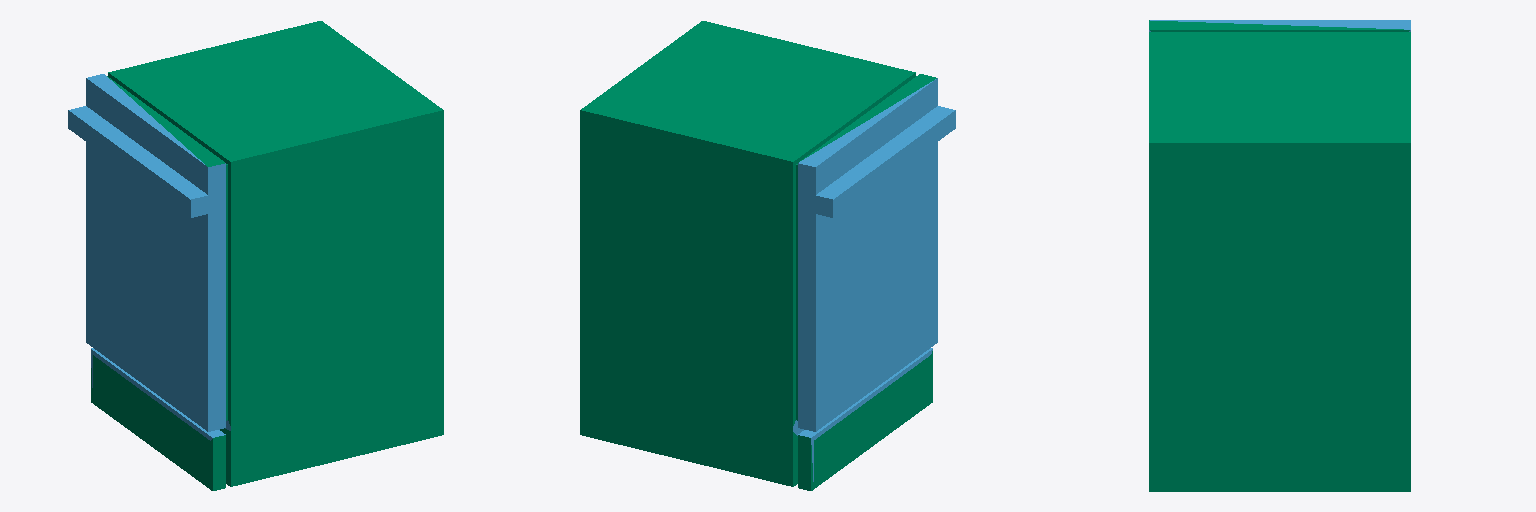
robot.urdf — partnet_7d4a04196d3b8eba7984fb9ec7e40829:
<?xml version="1.0" ?>
<robot name="partnet_7d4a04196d3b8eba7984fb9ec7e40829">
	<link name="base"/>
	<link name="link_0">
		<visual name="door_frame-7">
			<origin xyz="-0.49199799999999994 0.4339084885668554 -0.4237500093047597"/>
			<geometry>
				<mesh filename="textured_objs/new-2.obj"/>
			</geometry>
		</visual>
		<visual name="handle-8">
			<origin xyz="-0.49199799999999994 0.4339084885668554 -0.4237500093047597"/>
			<geometry>
				<mesh filename="textured_objs/new-1.obj"/>
			</geometry>
		</visual>
		<collision>
			<origin xyz="-0.49199799999999994 0.4339084885668554 -0.4237500093047597"/>
			<geometry>
				<mesh filename="textured_objs/new-2.obj"/>
			</geometry>
		</collision>
		<collision>
			<origin xyz="-0.49199799999999994 0.4339084885668554 -0.4237500093047597"/>
			<geometry>
				<mesh filename="textured_objs/new-1.obj"/>
			</geometry>
		</collision>
	</link>
	<joint name="joint_0" type="revolute">
		<origin xyz="0.49199799999999994 -0.4339084885668554 0.4237500093047597"/>
		<axis xyz="1 0 0"/>
		<child link="link_0"/>
		<parent link="link_1"/>
		<limit lower="0.0" upper="1.5707963267948966"/>
	</joint>
	<link name="link_1">
		<visual name="surface-4">
			<origin xyz="0 0 0"/>
			<geometry>
				<mesh filename="textured_objs/new-0.obj"/>
			</geometry>
		</visual>
		<visual name="frame-5">
			<origin xyz="0 0 0"/>
			<geometry>
				<mesh filename="textured_objs/new-3.obj"/>
			</geometry>
		</visual>
		<collision>
			<origin xyz="0 0 0"/>
			<geometry>
				<mesh filename="textured_objs/new-0.obj"/>
			</geometry>
		</collision>
		<collision>
			<origin xyz="0 0 0"/>
			<geometry>
				<mesh filename="textured_objs/new-3.obj"/>
			</geometry>
		</collision>
	</link>
	<joint name="joint_1" type="fixed">
		<origin rpy="1.570796326794897 0 -1.570796326794897" xyz="0 0 0"/>
		<child link="link_1"/>
		<parent link="base"/>
	</joint>
</robot>

--- Render facts (derived) ---
3 views of the same robot in one strip: view 1: azimuth 30°, elevation 25°; view 2: azimuth 150°, elevation 25°; view 3: azimuth 270°, elevation 25° (orthographic).
Model partnet_7d4a04196d3b8eba7984fb9ec7e40829 with 3 links and 2 joints (1 revolute, 1 fixed), rooted at base, posed every joint at zero.
Links seen in each view (by area): view 1: link_1, link_0; view 2: link_1, link_0; view 3: link_1, link_0.
Link boxes in pixels (left/top/right/bottom): link_1: left=91, top=21, right=443, bottom=490; link_0: left=68, top=74, right=230, bottom=440; link_1: left=580, top=21, right=936, bottom=490; link_0: left=793, top=78, right=955, bottom=481; link_1: left=1149, top=20, right=1410, bottom=491; link_0: left=1149, top=20, right=1410, bottom=31.
Bounding box of the posed robot: 1.16 × 0.9683 × 1.42 m (x, y, z).
Meshes: 4 distinct files referenced, 4 mesh visuals loaded (4 OBJ).
